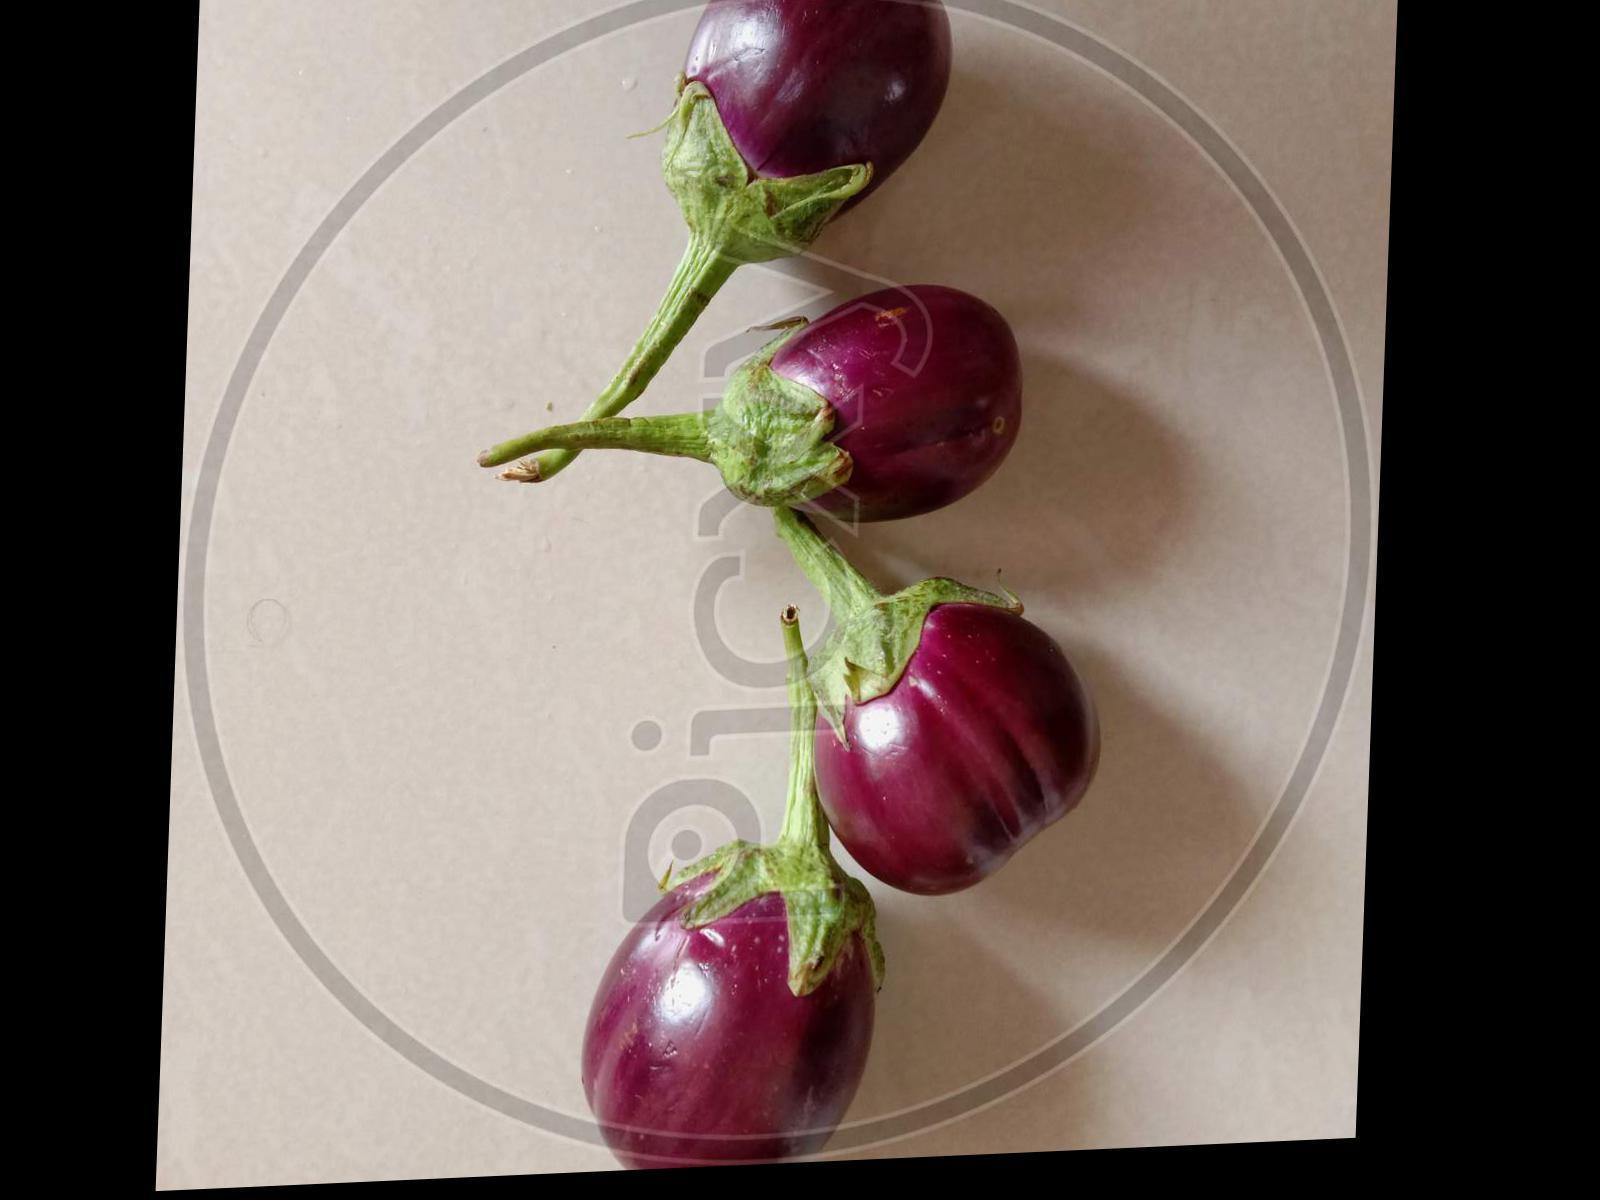eggplant: (556, 0, 1005, 424), (745, 534, 1125, 950), (616, 255, 1023, 586), (568, 828, 897, 1179)
